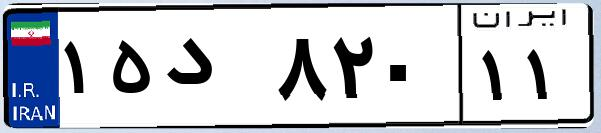0: (385, 28, 445, 110)
1: (57, 26, 110, 100), (475, 38, 525, 113), (525, 38, 570, 115)
2: (330, 28, 385, 110)
5: (110, 28, 158, 98)
8: (270, 28, 330, 110)
د: (158, 20, 270, 120)
